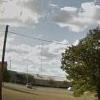Tree: (52, 17, 100, 100)
